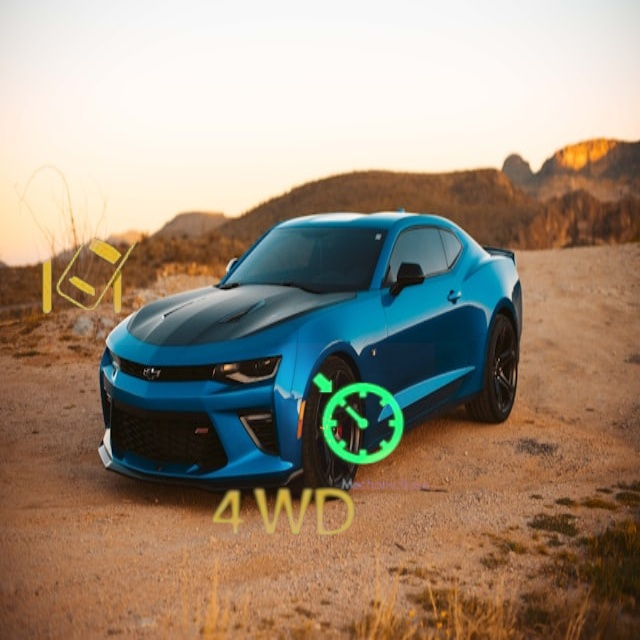symbol: (192, 424, 373, 605), (3, 171, 177, 345), (281, 343, 435, 497), (433, 35, 558, 160)
